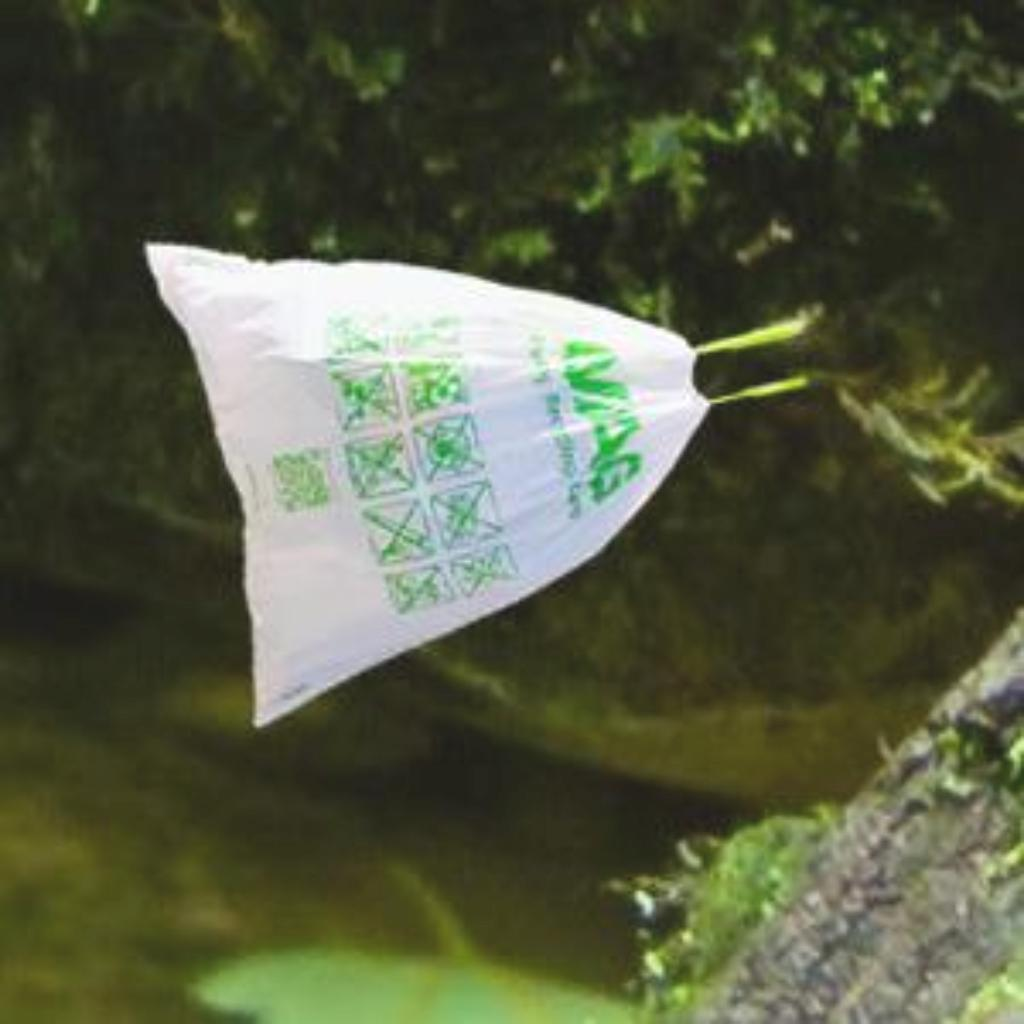garbage: (142, 193, 790, 729)
